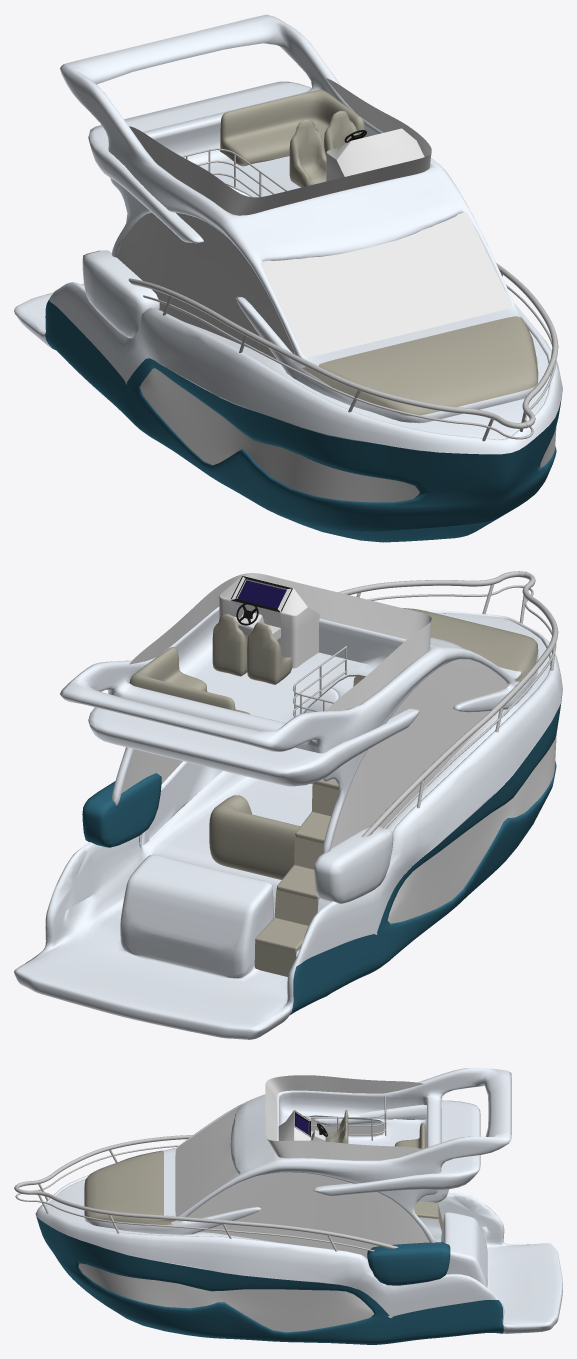
The model's file is yacht.fbx.
The picture shows the model from 3 angles, top to bottom: view 1: azimuth 30°, elevation 25°; view 2: azimuth 150°, elevation 25°; view 3: azimuth 270°, elevation 25°; orthographic projection. The views are drawn at different scales.
Parts seen in each view (by area): view 1: YACHT, WINDSCREEN, WINDOWS, CABIN GLASS, FLY GLASS, RAILING, FLY COUCH, FLY DASH, SEAT4, SEAT3, FLY RAILING; view 2: YACHT, WINDOWS, FLY GLASS, CABIN GLASS, LADDER, COUCH INTERIOR, RAILING, FLY DASH, FLY COUCH, SEAT4, SEAT3, FLY RAILING (+1 smaller); view 3: YACHT, WINDOWS, CABIN GLASS, FLY GLASS, RAILING, WINDSCREEN, FLY DASH, FLY RAILING, LADDER, FLY COUCH.
Part boxes in pixels (box(x1,y1,x2,y2)): YACHT: box(14, 14, 562, 542); WINDSCREEN: box(261, 212, 511, 356); WINDOWS: box(116, 212, 294, 359); CABIN GLASS: box(140, 368, 556, 502); FLY GLASS: box(129, 78, 431, 215); RAILING: box(128, 263, 558, 441); FLY COUCH: box(220, 89, 365, 166); FLY DASH: box(326, 128, 424, 181); SEAT4: box(289, 119, 326, 187); SEAT3: box(324, 111, 357, 155); FLY RAILING: box(181, 148, 286, 197); YACHT: box(14, 607, 562, 1039); WINDOWS: box(121, 659, 508, 848); FLY GLASS: box(129, 573, 431, 710); CABIN GLASS: box(387, 734, 556, 923); LADDER: box(254, 675, 365, 976); COUCH INTERIOR: box(209, 795, 300, 879); RAILING: box(338, 571, 558, 837); FLY DASH: box(219, 575, 319, 668); FLY COUCH: box(130, 647, 250, 714); SEAT4: box(247, 622, 292, 684); SEAT3: box(212, 614, 247, 676); FLY RAILING: box(293, 646, 347, 716); YACHT: box(35, 1068, 562, 1344); WINDOWS: box(187, 1118, 429, 1257); CABIN GLASS: box(78, 1263, 373, 1332); FLY GLASS: box(265, 1075, 423, 1160); RAILING: box(14, 1135, 398, 1251); WINDSCREEN: box(175, 1107, 238, 1216); FLY DASH: box(278, 1110, 325, 1141); FLY RAILING: box(310, 1095, 386, 1140); LADDER: box(414, 1201, 442, 1231); FLY COUCH: box(395, 1122, 426, 1148).
Size of the model in its own units: 109 by 116 by 273.
